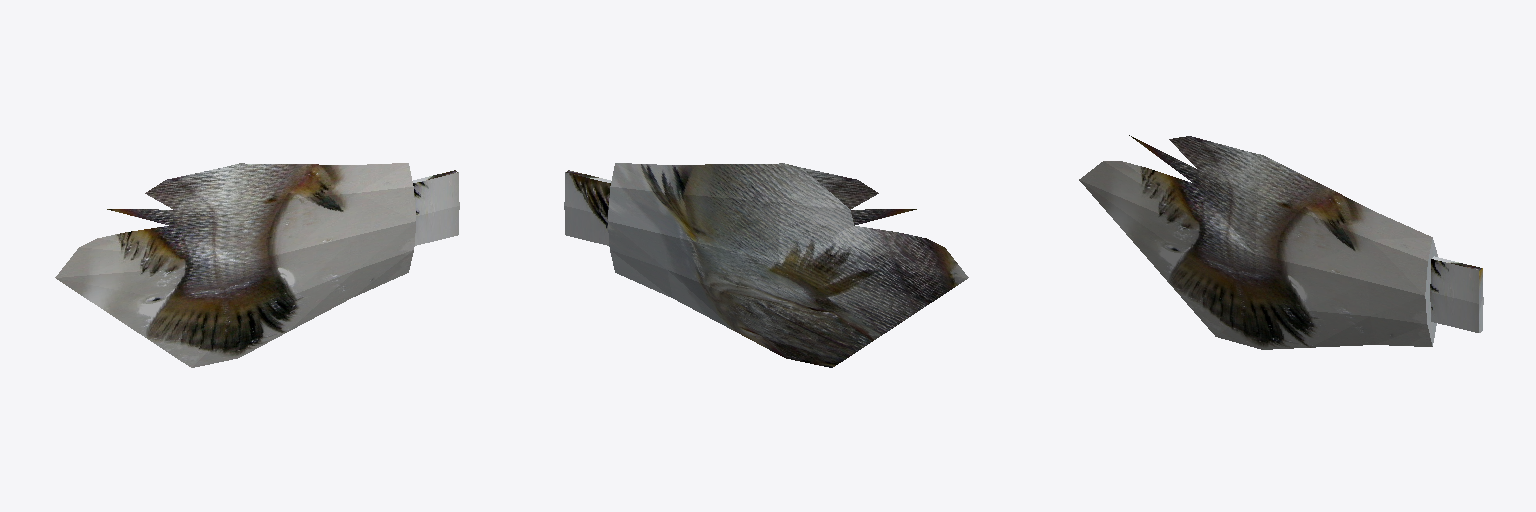
3 views of the same model, side by side, from view 1: azimuth 30°, elevation 25°; view 2: azimuth 150°, elevation 25°; view 3: azimuth 330°, elevation 25° (orthographic).
Visible parts, largest first — view 1: tail_Plane.002; view 2: tail_Plane.002; view 3: tail_Plane.002.
Boxes of the visible parts, x1=… form: tail_Plane.002: x1=55, y1=163, x2=459, y2=367; tail_Plane.002: x1=564, y1=163, x2=968, y2=367; tail_Plane.002: x1=1079, y1=135, x2=1483, y2=349.
Size of the model in its own units: 0.3879 by 0.181 by 0.0253.
2 materials, 1 textured.